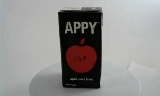appy: (52, 5, 96, 89)
